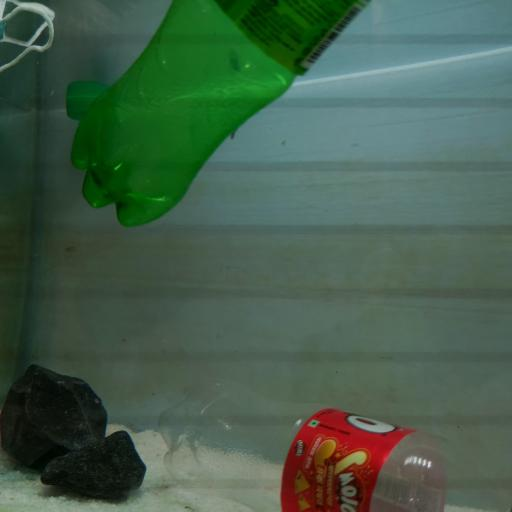bottle_cap: (66, 97, 100, 118)
plastic_bottle: (71, 0, 374, 225), (157, 373, 508, 512)
